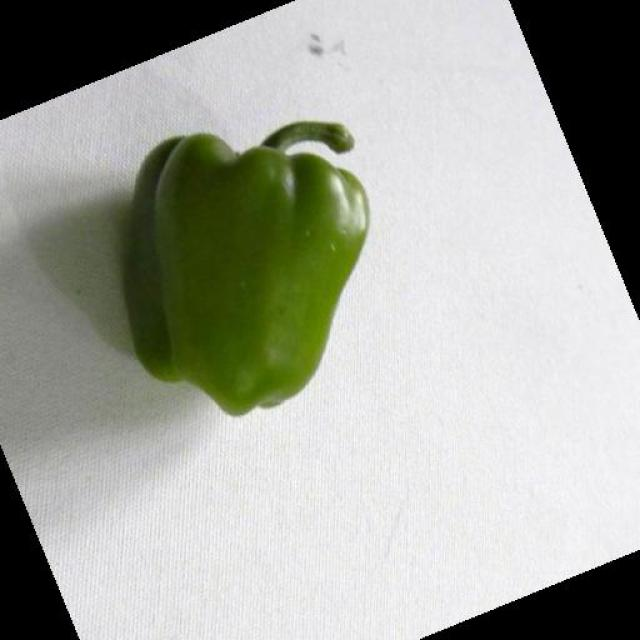Fresh_Capsicum: (151, 121, 366, 408)
